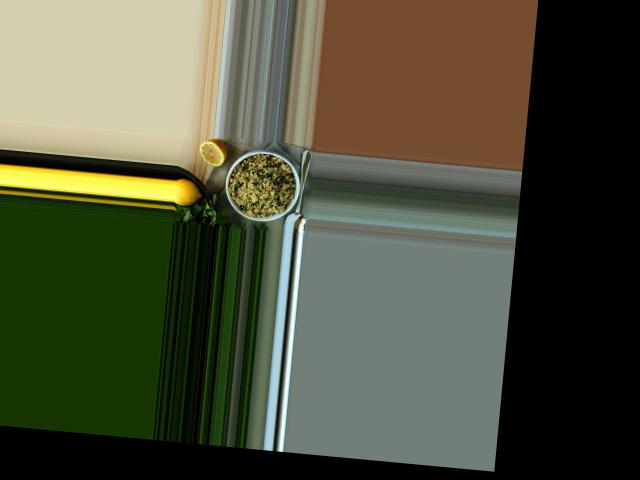lemon: (174, 181, 201, 205)
